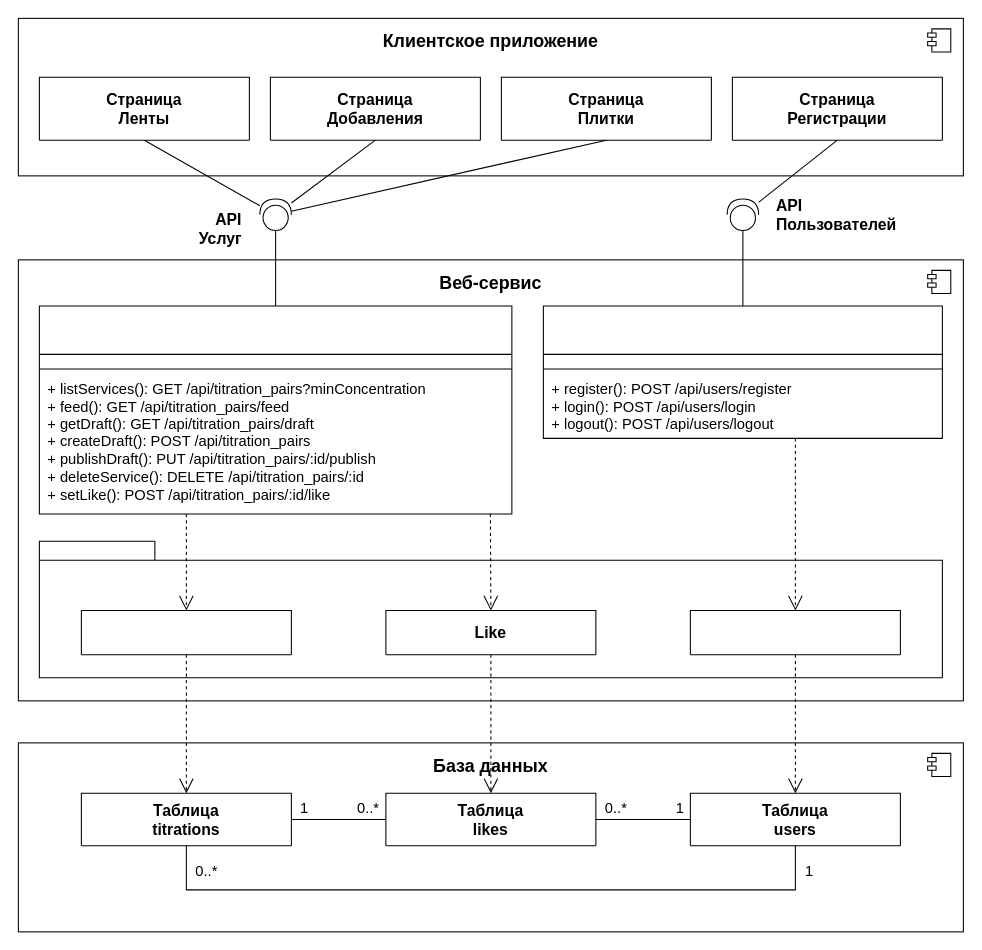
This 982x950 diagram has some shape labels left out. Each missing label, with the box of its shape:
Titration: (80, 610, 291, 655)
User: (689, 610, 900, 655)
Модель: (38, 540, 942, 678)
Набор методов Пользователи: (542, 305, 942, 438)
Набор методов Услуги: (38, 305, 512, 514)
